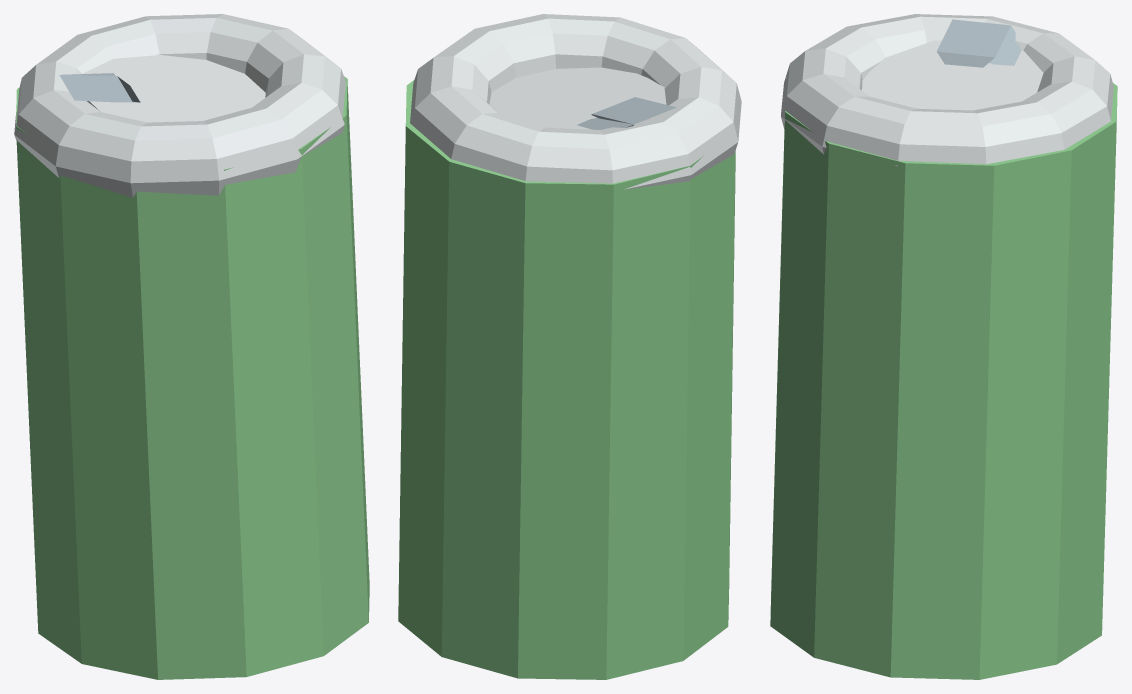
Rendered from can.glb.
The picture shows the model from 3 angles, left to right: view 1: azimuth 30°, elevation 25°; view 2: azimuth 150°, elevation 25°; view 3: azimuth 270°, elevation 25°; orthographic projection.
Visible parts, largest first — view 1: group14728228, group704631813, group102268657, group698793005; view 2: group14728228, group704631813, group102268657, group698793005; view 3: group14728228, group704631813, group102268657, group698793005.
Boxes of the visible parts, x1,y1,x2,y2 form: group14728228: (16,76,369,679); group704631813: (14,14,345,197); group102268657: (83,55,265,122); group698793005: (59,73,140,102); group14728228: (398,80,735,679); group704631813: (410,14,741,189); group102268657: (489,67,666,129); group698793005: (577,97,676,129); group14728228: (770,77,1117,679); group704631813: (781,14,1113,166); group102268657: (862,40,1043,110); group698793005: (936,19,1021,67).
Bounding box in the file's own units: 0.0823 × 0.1416 × 0.0809.
